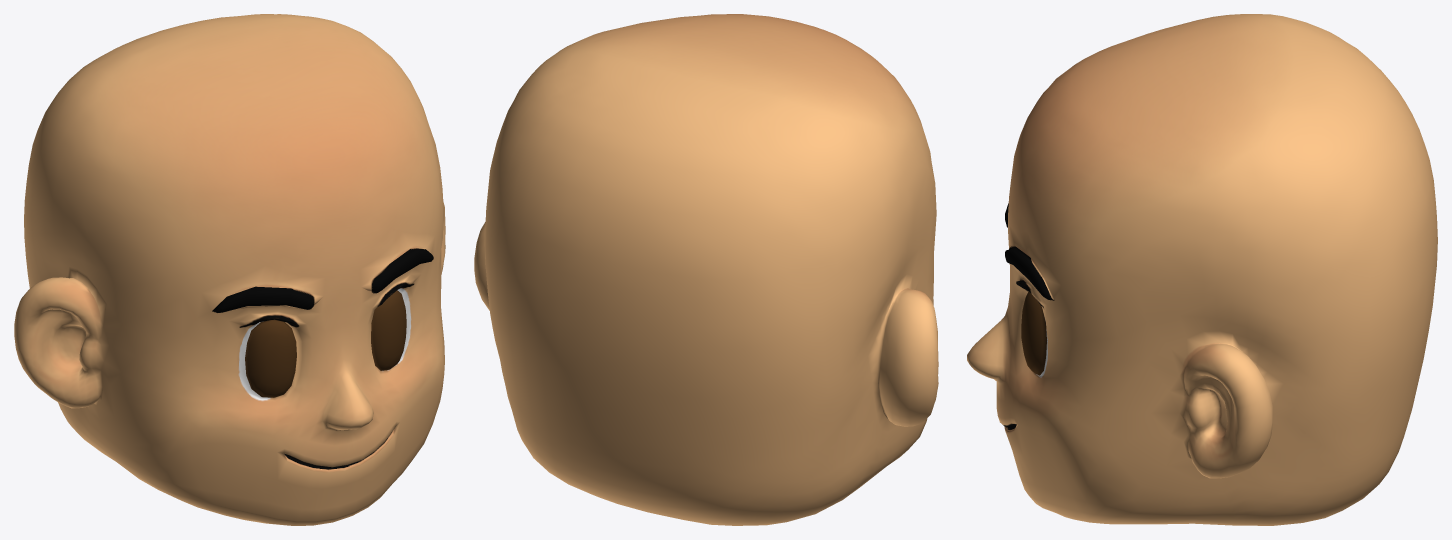
File: Head_low.001.glb
3 renders of one model, left to right at view 1: azimuth 30°, elevation 25°; view 2: azimuth 150°, elevation 25°; view 3: azimuth 270°, elevation 25°, orthographic. The views are drawn at different scales.
Parts seen in each view (by area): view 1: Head_low.001; view 2: Head_low.001; view 3: Head_low.001.
Boxes of the visible parts, x1=… form: Head_low.001: x1=14, y1=14, x2=445, y2=525; Head_low.001: x1=474, y1=14, x2=938, y2=525; Head_low.001: x1=967, y1=14, x2=1437, y2=525.
Bounding box in the file's own units: 0.3316 × 0.3031 × 0.2973.
1 material, 1 textured.
